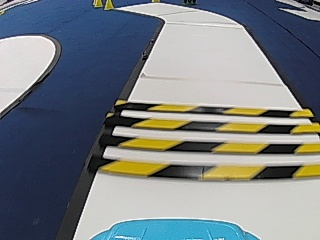bump: (131, 100, 296, 175)
